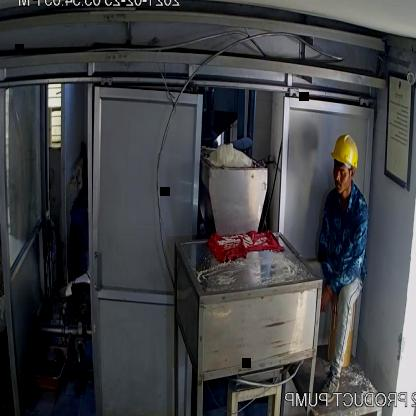helmet: (331, 132, 360, 168)
